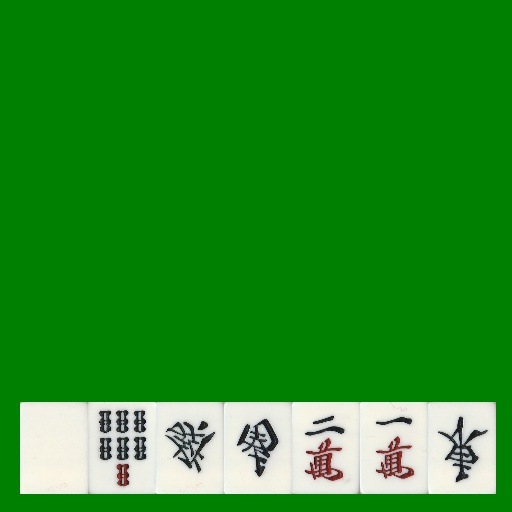1m: (360, 402, 428, 494)
2m: (292, 402, 360, 494)
7s: (88, 402, 156, 494)
east: (428, 402, 496, 494)
hatsu: (156, 402, 224, 494)
south: (224, 402, 292, 494)
white: (20, 402, 88, 494)
